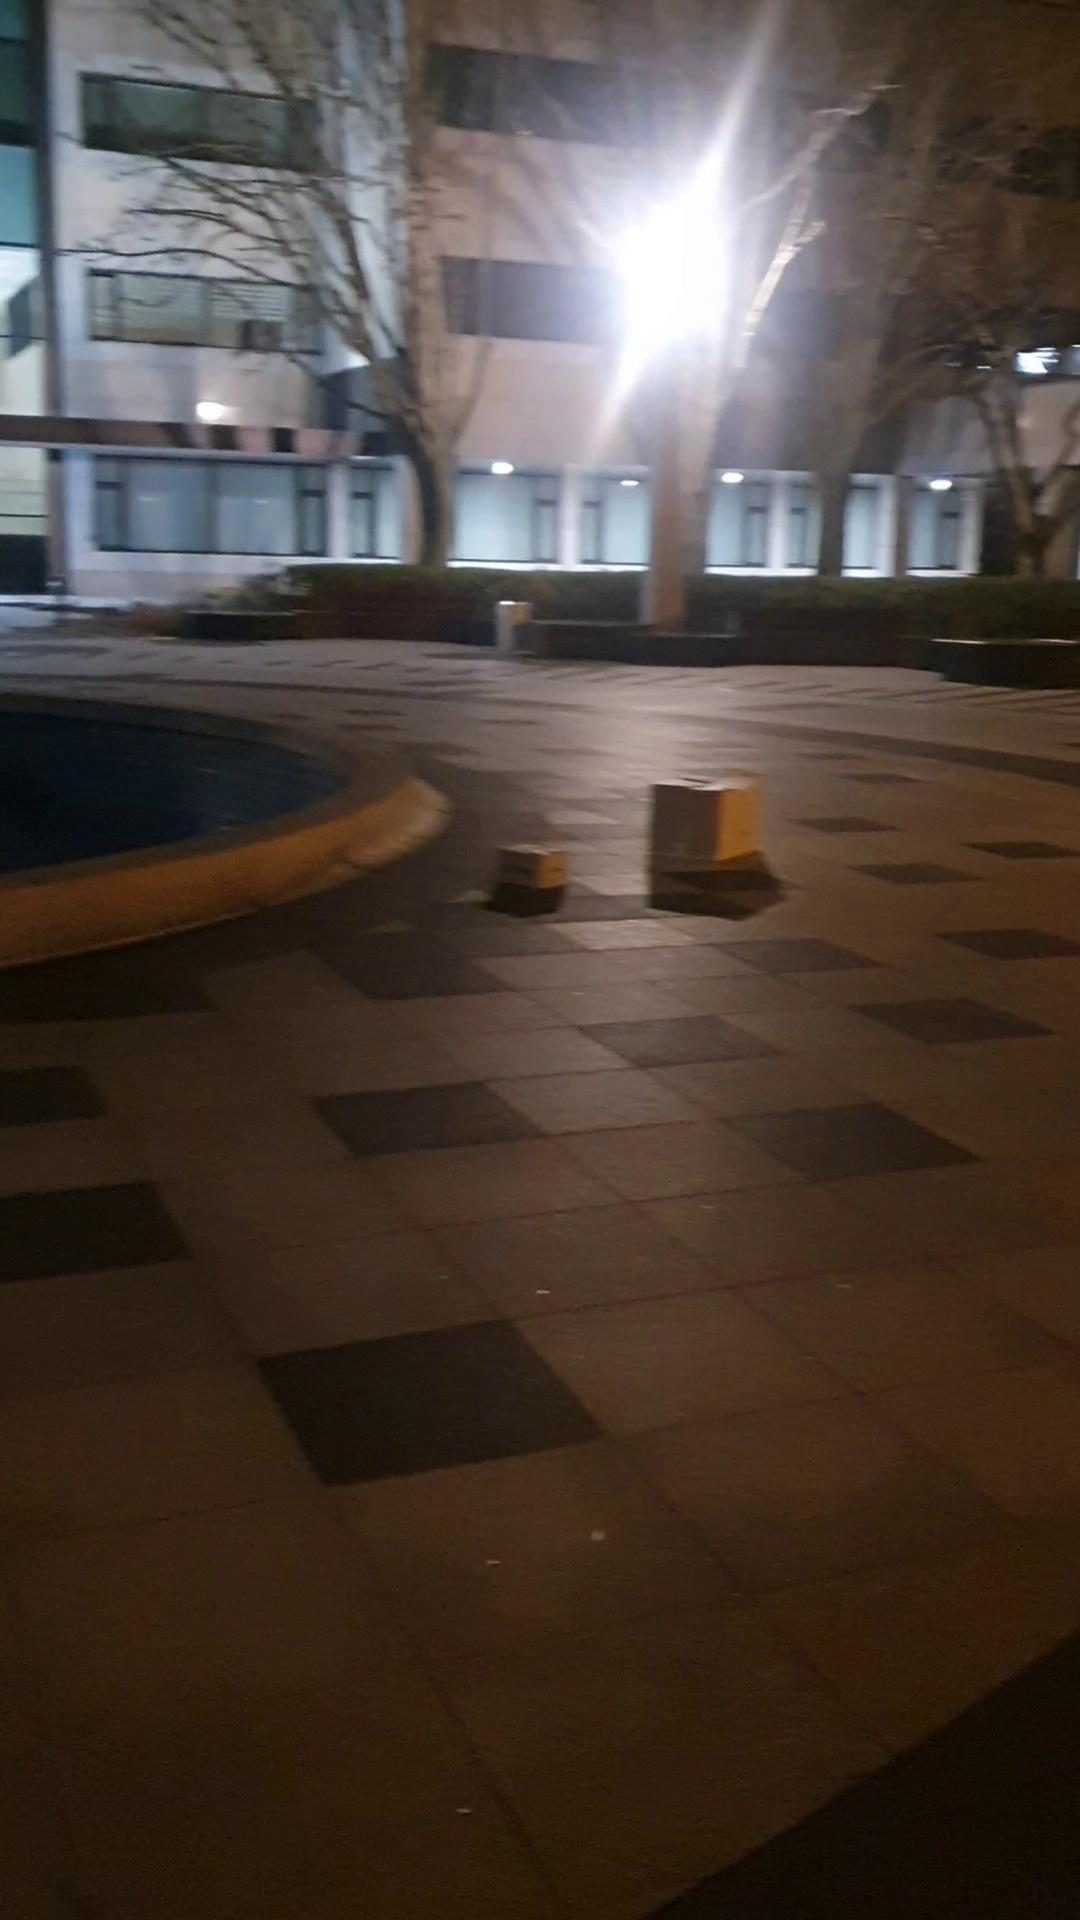Box: (646, 765, 767, 876), (501, 823, 585, 903)
